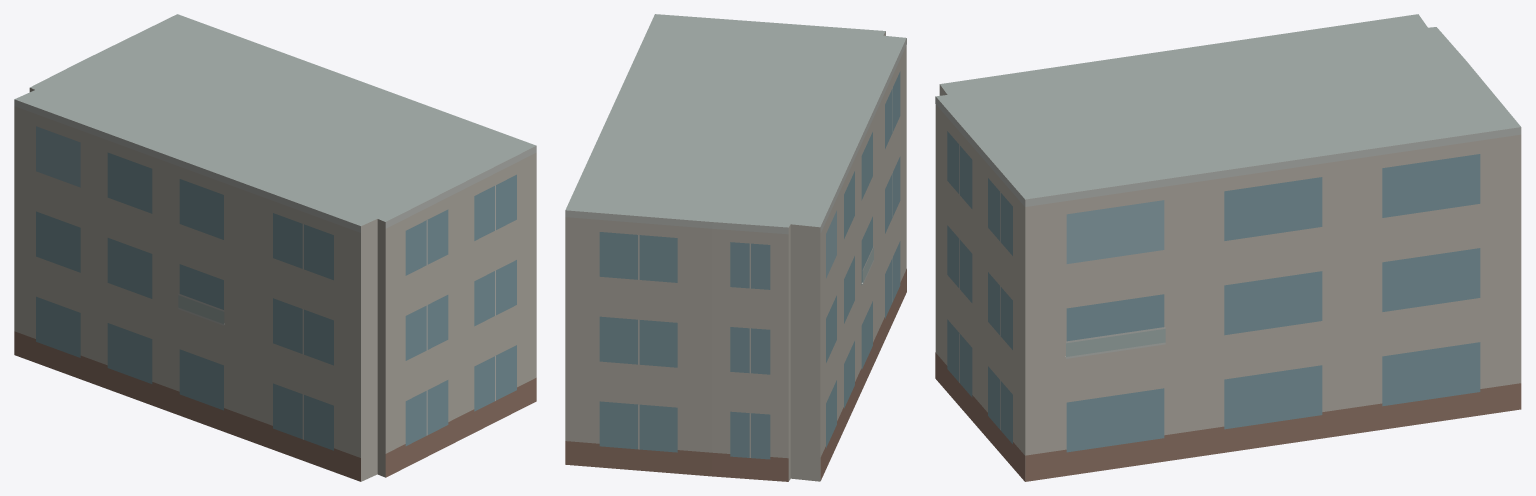
Rendered from survey-upis-32703980.glb.
3 views of the same model, side by side, from view 1: azimuth 30°, elevation 25°; view 2: azimuth 150°, elevation 25°; view 3: azimuth 270°, elevation 25° (orthographic). The views are drawn at different scales.
Parts seen in each view (by area): view 1: survey-upis-32703980.tmp; view 2: survey-upis-32703980.tmp; view 3: survey-upis-32703980.tmp.
Part boxes in pixels (x1,y1,x2,y2): survey-upis-32703980.tmp: (14,14,536,481); survey-upis-32703980.tmp: (565,14,906,481); survey-upis-32703980.tmp: (935,14,1521,481).
Size of the model in its own units: 12.91 by 9.15 by 17.22.
